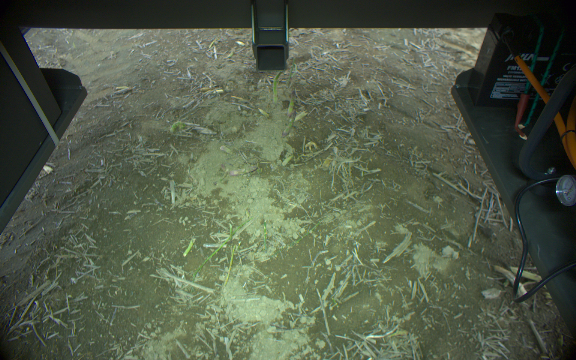aspa: (270, 69, 283, 103), (282, 111, 298, 138), (286, 89, 297, 117)
